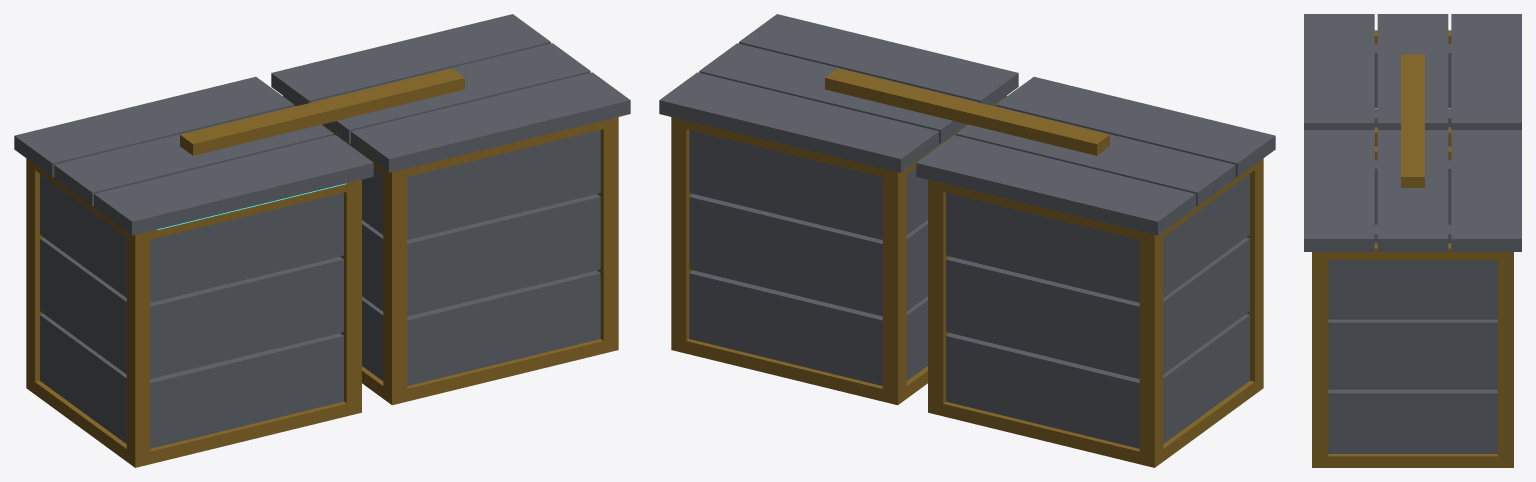
File: SM_Crate_Dvergr_08_Stack.glb
The picture shows the model from 3 angles, left to right: view 1: azimuth 30°, elevation 25°; view 2: azimuth 150°, elevation 25°; view 3: azimuth 270°, elevation 25°; orthographic projection. The views are drawn at different scales.
Parts seen in each view (by area): view 1: SM_Crate_Dvergr_08_Stack_PanelsA, SM_Crate_Dvergr_08_Stack_PanelsB, SM_Crate_Dvergr_08_Stack_LidA, SM_Crate_Dvergr_08_Stack_LidB, SM_Crate_Dvergr_08_Stack_FrameA, SM_Crate_Dvergr_08_Stack_FrameB, SM_Crate_Dvergr_08_Stack_RailBeam; view 2: SM_Crate_Dvergr_08_Stack_PanelsA, SM_Crate_Dvergr_08_Stack_PanelsB, SM_Crate_Dvergr_08_Stack_LidA, SM_Crate_Dvergr_08_Stack_LidB, SM_Crate_Dvergr_08_Stack_FrameA, SM_Crate_Dvergr_08_Stack_FrameB, SM_Crate_Dvergr_08_Stack_RailBeam; view 3: SM_Crate_Dvergr_08_Stack_PanelsB, SM_Crate_Dvergr_08_Stack_LidB, SM_Crate_Dvergr_08_Stack_LidA, SM_Crate_Dvergr_08_Stack_FrameB, SM_Crate_Dvergr_08_Stack_RailBeam, SM_Crate_Dvergr_08_Stack_PanelsA, SM_Crate_Dvergr_08_Stack_FrameA.
Part boxes in pixels (left/top/right/bottom): SM_Crate_Dvergr_08_Stack_PanelsA: left=40, top=174, right=343, bottom=448; SM_Crate_Dvergr_08_Stack_PanelsB: left=362, top=130, right=600, bottom=385; SM_Crate_Dvergr_08_Stack_LidA: left=14, top=76, right=373, bottom=235; SM_Crate_Dvergr_08_Stack_LidB: left=271, top=14, right=630, bottom=172; SM_Crate_Dvergr_08_Stack_FrameA: left=26, top=158, right=361, bottom=467; SM_Crate_Dvergr_08_Stack_FrameB: left=283, top=96, right=618, bottom=405; SM_Crate_Dvergr_08_Stack_RailBeam: left=180, top=68, right=464, bottom=155; SM_Crate_Dvergr_08_Stack_PanelsA: left=946, top=174, right=1249, bottom=448; SM_Crate_Dvergr_08_Stack_PanelsB: left=689, top=130, right=927, bottom=385; SM_Crate_Dvergr_08_Stack_LidA: left=916, top=76, right=1275, bottom=235; SM_Crate_Dvergr_08_Stack_LidB: left=659, top=14, right=1018, bottom=172; SM_Crate_Dvergr_08_Stack_FrameA: left=928, top=158, right=1263, bottom=467; SM_Crate_Dvergr_08_Stack_FrameB: left=671, top=96, right=1006, bottom=405; SM_Crate_Dvergr_08_Stack_RailBeam: left=825, top=68, right=1109, bottom=155; SM_Crate_Dvergr_08_Stack_PanelsB: left=1328, top=179, right=1497, bottom=453; SM_Crate_Dvergr_08_Stack_LidB: left=1304, top=130, right=1521, bottom=251; SM_Crate_Dvergr_08_Stack_LidA: left=1304, top=14, right=1521, bottom=129; SM_Crate_Dvergr_08_Stack_FrameB: left=1312, top=146, right=1513, bottom=467; SM_Crate_Dvergr_08_Stack_RailBeam: left=1401, top=54, right=1424, bottom=187; SM_Crate_Dvergr_08_Stack_PanelsA: left=1374, top=63, right=1451, bottom=224; SM_Crate_Dvergr_08_Stack_FrameA: left=1374, top=30, right=1451, bottom=144.
Bounding box in the file's own units: 1.32 × 0.665 × 0.54.
